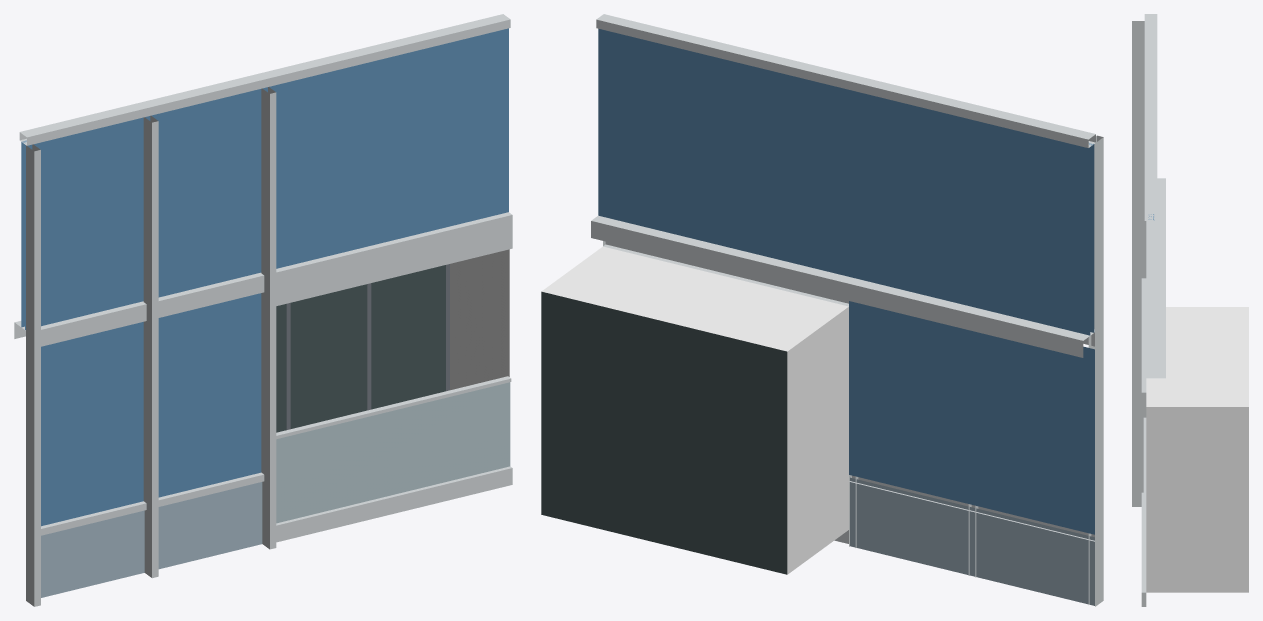
File: top-w1.fbx
3 views of the same model, side by side, from view 1: azimuth 30°, elevation 25°; view 2: azimuth 150°, elevation 25°; view 3: azimuth 270°, elevation 25° (orthographic). The views are drawn at different scales.
Parts seen in each view (by area): view 1: a2007/750/top-w1; view 2: a2007/750/top-w1; view 3: a2007/750/top-w1.
Part boxes in pixels (left/top/right/bottom): a2007/750/top-w1: left=14, top=14, right=512, bottom=606; a2007/750/top-w1: left=541, top=14, right=1103, bottom=606; a2007/750/top-w1: left=1132, top=14, right=1248, bottom=606.
Size of the model in its own units: 6 by 5.5 by 1.48.
